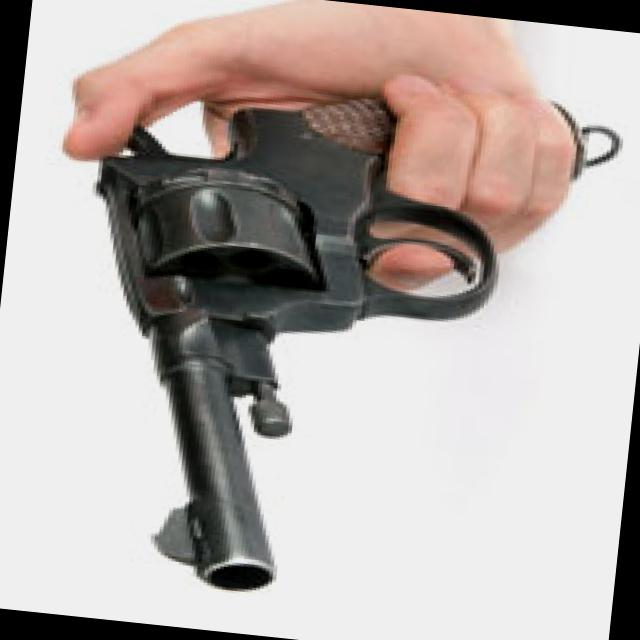handgun: (44, 41, 623, 632)
